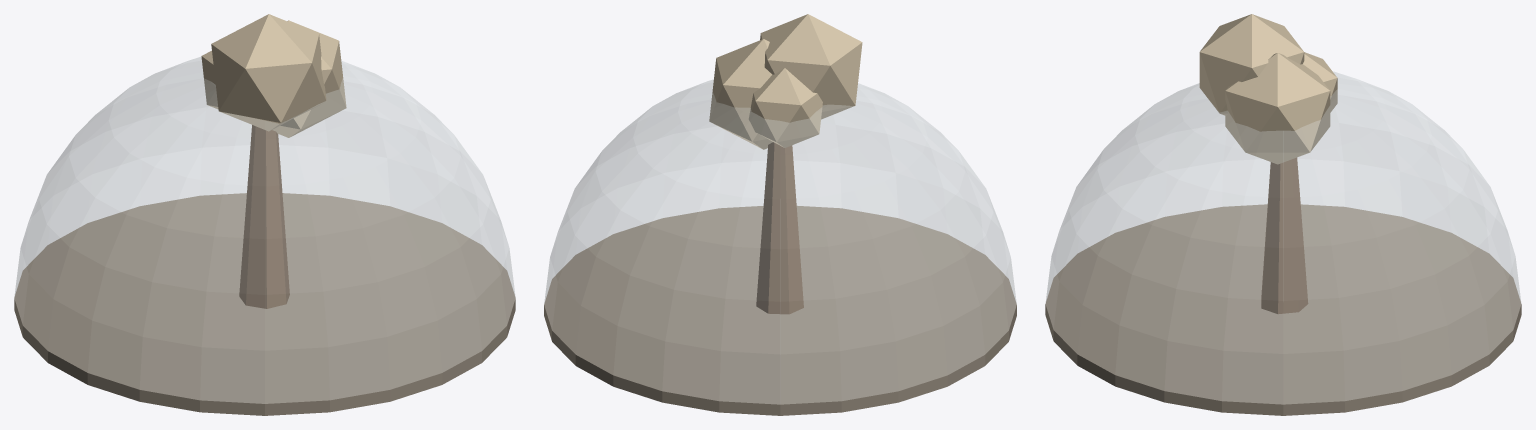
Rendered from ousias.glb.
The picture shows the model from 3 angles, left to right: view 1: azimuth 30°, elevation 25°; view 2: azimuth 150°, elevation 25°; view 3: azimuth 270°, elevation 25°; orthographic projection. The views are drawn at different scales.
Parts seen in each view (by area): view 1: Dome_Glass, Dome_Base, Tree_Foliage, Tree_Trunk; view 2: Dome_Glass, Dome_Base, Tree_Foliage, Tree_Trunk; view 3: Dome_Glass, Dome_Base, Tree_Foliage, Tree_Trunk.
Boxes of the visible parts, x1=… form: Dome_Glass: x1=14, y1=57, x2=515, y2=403; Dome_Base: x1=14, y1=193, x2=515, y2=415; Tree_Foliage: x1=201, y1=14, x2=346, y2=137; Tree_Trunk: x1=239, y1=125, x2=289, y2=308; Dome_Glass: x1=544, y1=79, x2=1016, y2=404; Dome_Base: x1=544, y1=205, x2=1016, y2=415; Tree_Foliage: x1=709, y1=14, x2=862, y2=149; Tree_Trunk: x1=756, y1=142, x2=803, y2=314; Dome_Glass: x1=1046, y1=72, x2=1520, y2=404; Dome_Base: x1=1045, y1=204, x2=1521, y2=415; Tree_Foliage: x1=1199, y1=14, x2=1337, y2=164; Tree_Trunk: x1=1261, y1=157, x2=1308, y2=314.
Bounding box in the file's own units: 3.03 × 2.08 × 3.03.
